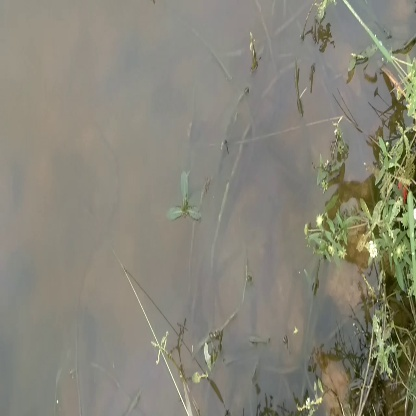grass: (290, 122, 416, 269)
